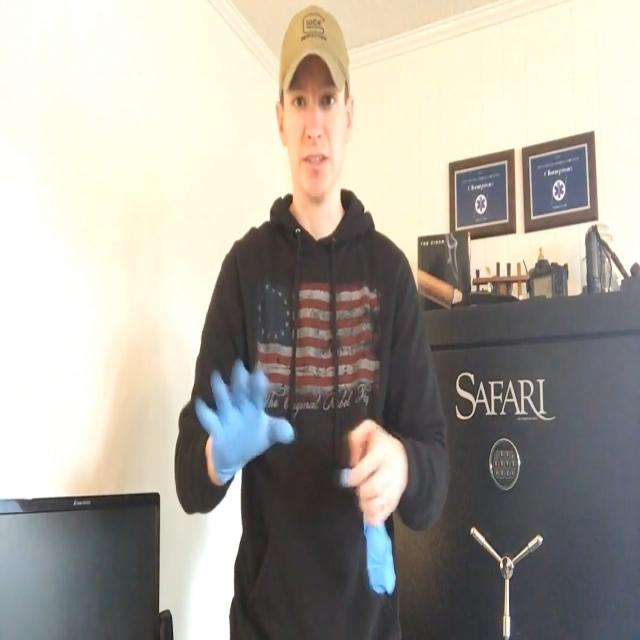Gloves: (191, 363, 296, 489)
